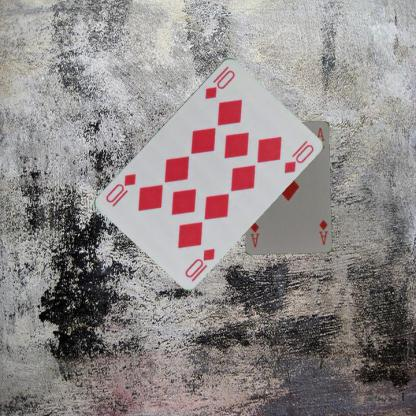10d: (182, 245, 217, 283), (202, 63, 236, 101)
Ad: (316, 216, 329, 246)
